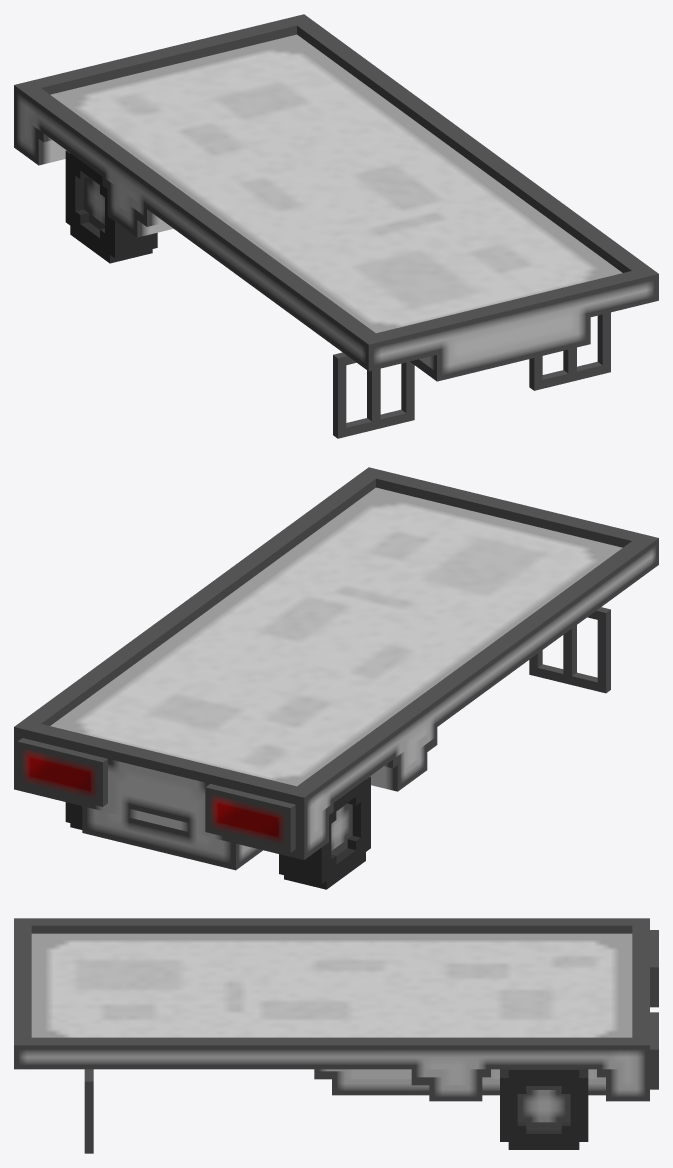
File: Telega_0.fbx
3 renders of one model, top to bottom at view 1: azimuth 30°, elevation 25°; view 2: azimuth 150°, elevation 25°; view 3: azimuth 270°, elevation 25°, orthographic. The views are drawn at different scales.
Parts seen in each view (by area): view 1: Matrix_9; view 2: Matrix_9; view 3: Matrix_9.
Boxes of the visible parts, bbox=[...] form: Matrix_9: bbox=[14, 14, 658, 438]; Matrix_9: bbox=[14, 467, 658, 889]; Matrix_9: bbox=[14, 918, 658, 1153].
Bounding box in the file's own units: 34 × 14 × 73.
